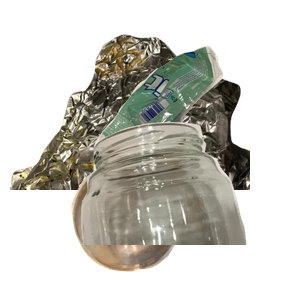glass: (74, 120, 300, 300)
metal: (10, 32, 250, 212)
plastic: (69, 161, 245, 300)
trash: (92, 44, 300, 211)
